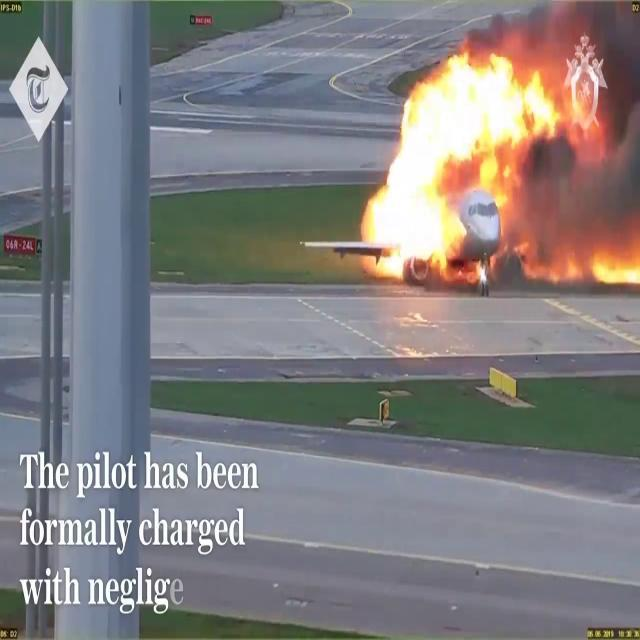Fire: (356, 34, 635, 279)
